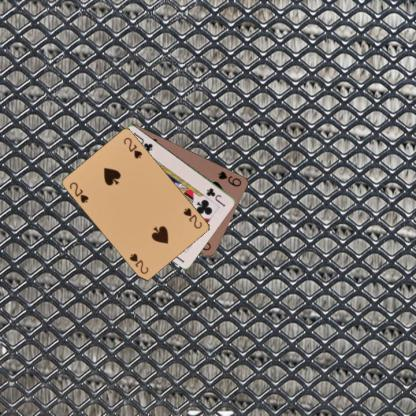2s: (67, 180, 90, 204), (181, 205, 203, 230)
9s: (216, 168, 243, 188)
Jc: (204, 185, 226, 208)
